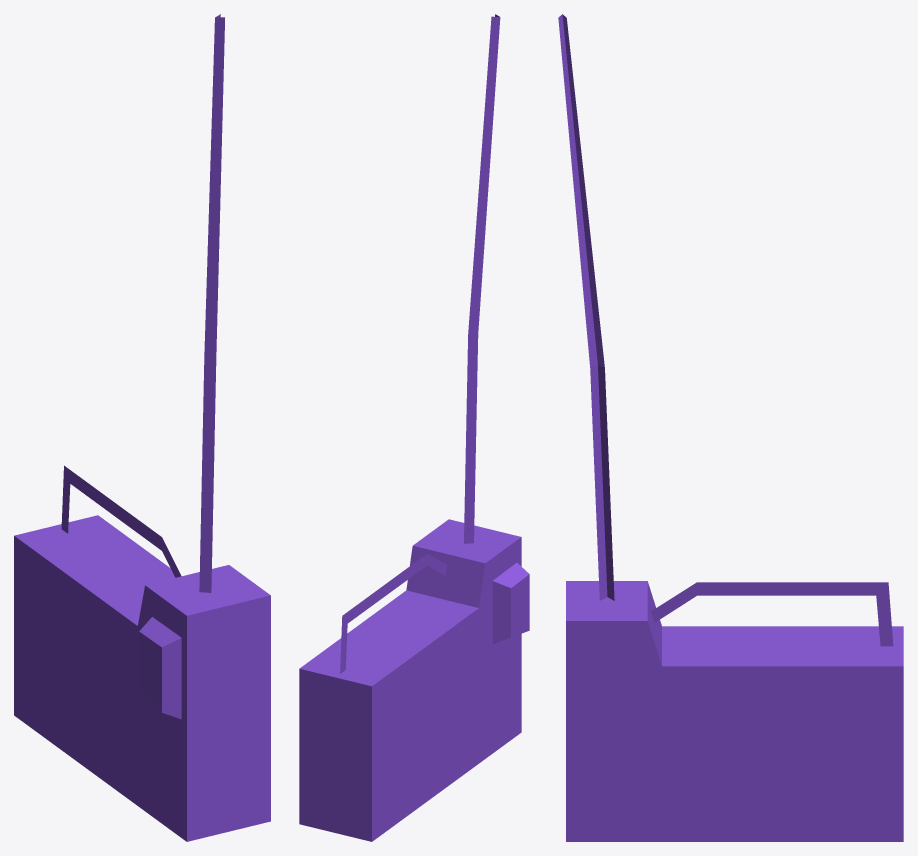
Rendered from radioset_portable.obj.
The picture shows the model from 3 angles, left to right: view 1: azimuth 30°, elevation 25°; view 2: azimuth 150°, elevation 25°; view 3: azimuth 270°, elevation 25°; orthographic projection. The views are drawn at different scales.
Visible parts, largest first — view 1: Box02; view 2: Box02; view 3: Box02.
Part boxes in pixels (left/top/right/bottom): Box02: left=14, top=14, right=270, bottom=841; Box02: left=299, top=14, right=529, bottom=841; Box02: left=558, top=14, right=903, bottom=841.
Size of the model in its own units: 10.69 by 82.18 by 32.13.
